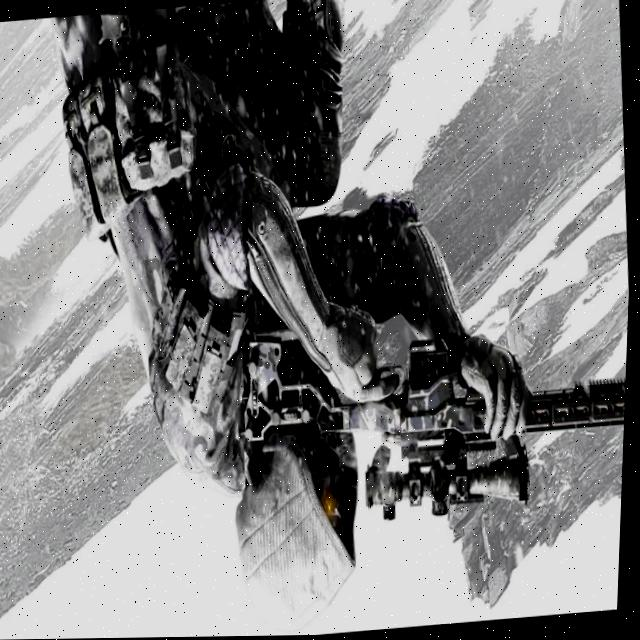firearm: (234, 303, 631, 536)
